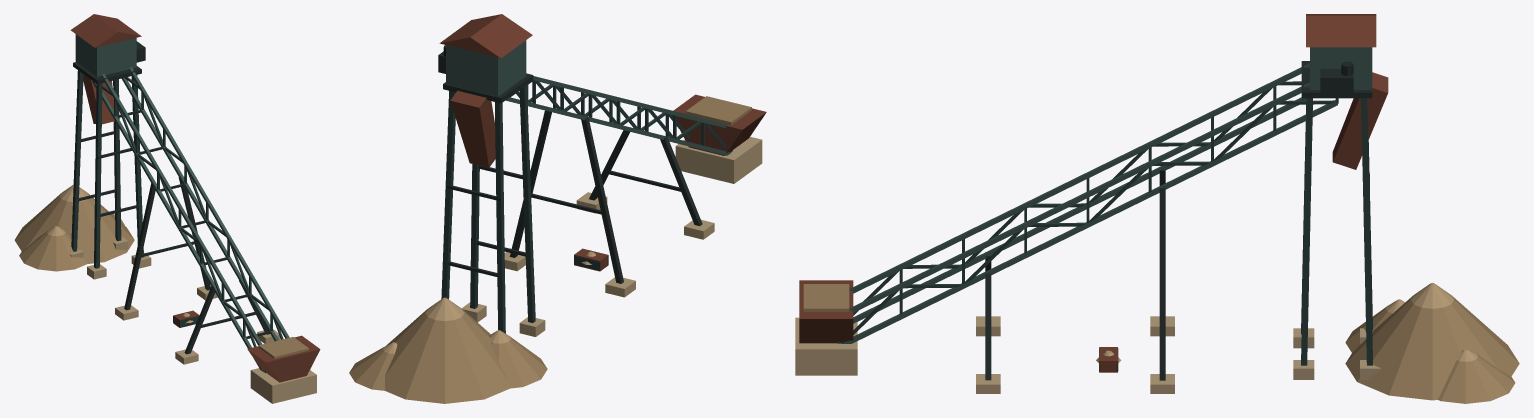
Rendered from works_conveyor.glb.
3 views of the same model, side by side, from view 1: azimuth 30°, elevation 25°; view 2: azimuth 150°, elevation 25°; view 3: azimuth 270°, elevation 25° (orthographic). The views are drawn at different scales.
Visible parts, largest first — view 1: Base, CupEmpty; view 2: Base, CupEmpty; view 3: Base.
Part boxes in pixels (<box>): Base: <box>14,14,320,403</box>; CupEmpty: <box>173,310,199,327</box>; Base: <box>349,14,766,403</box>; CupEmpty: <box>574,248,608,270</box>; Base: <box>795,14,1519,403</box>.
Bounding box in the file's own units: 9.6 × 18.61 × 34.9.
